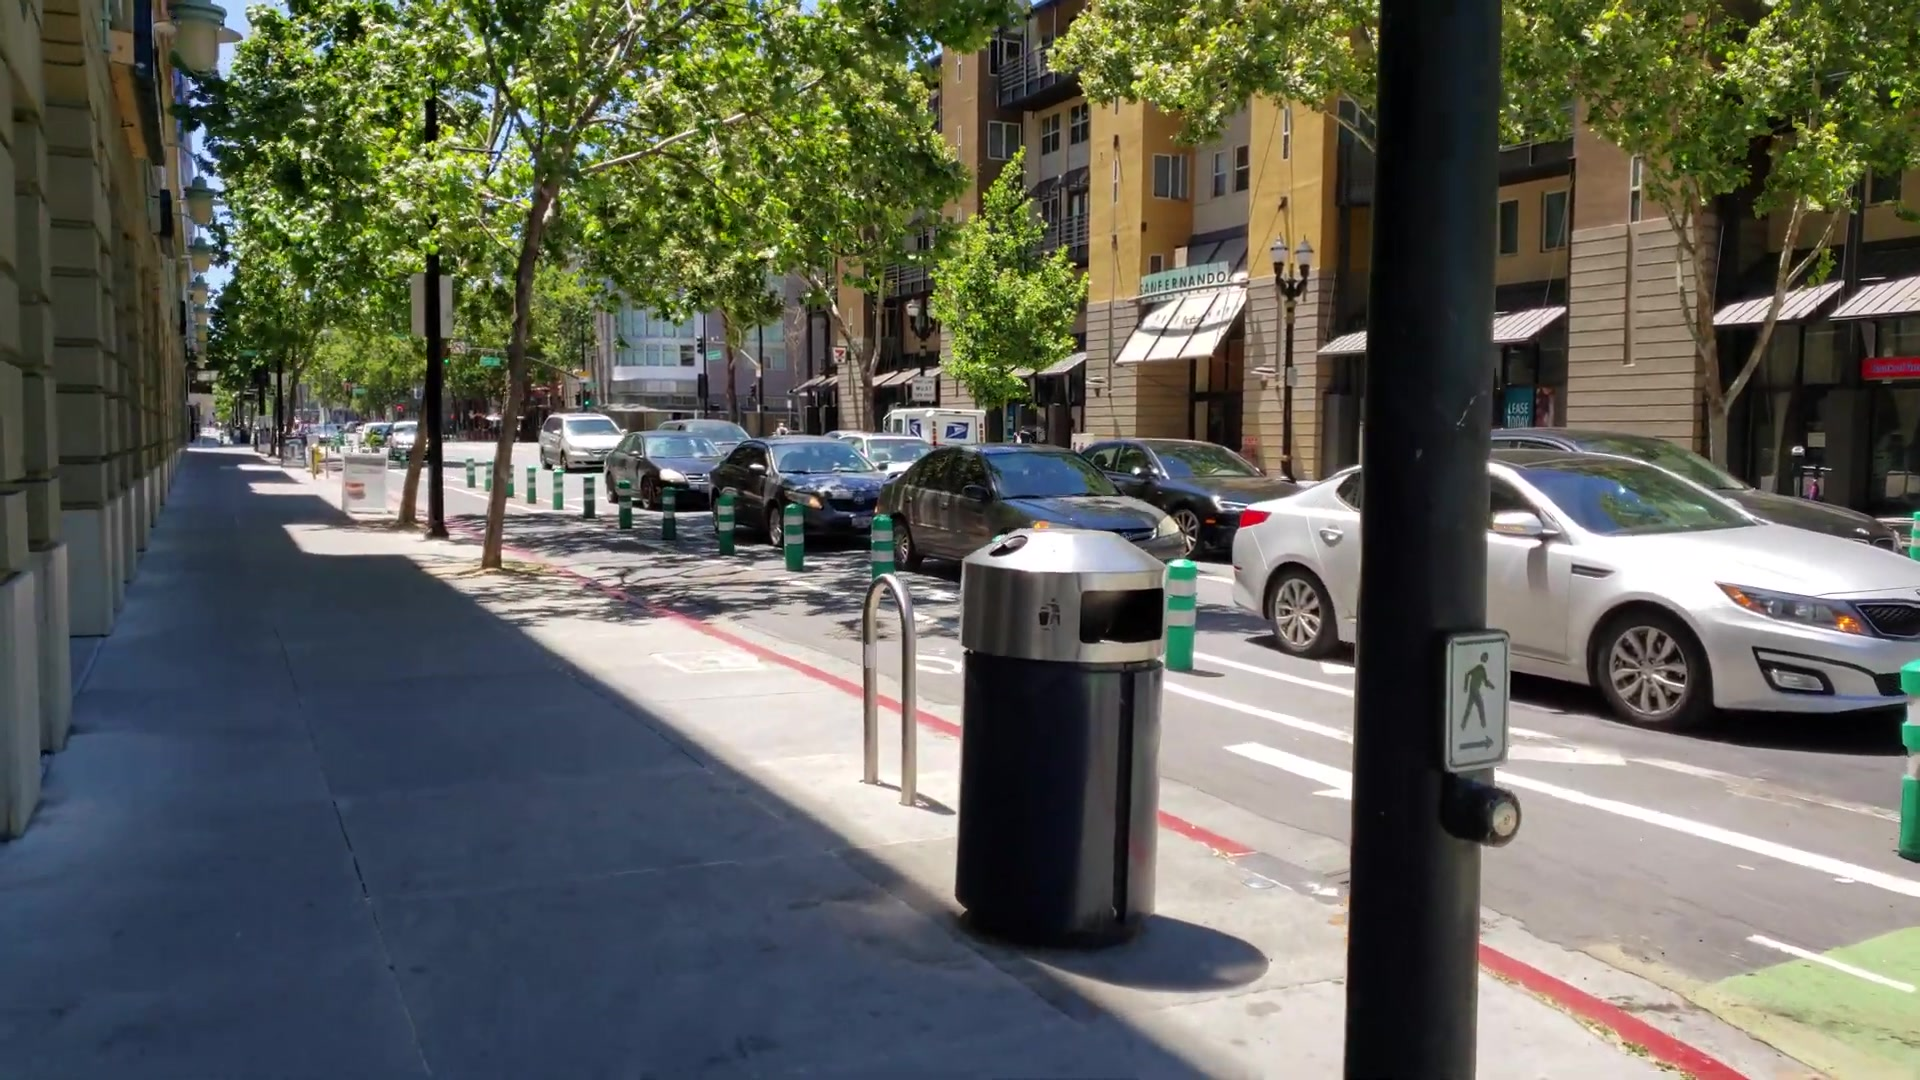vehicle: (1234, 455, 1916, 727), (711, 439, 880, 546), (607, 433, 719, 506), (541, 411, 626, 472)
